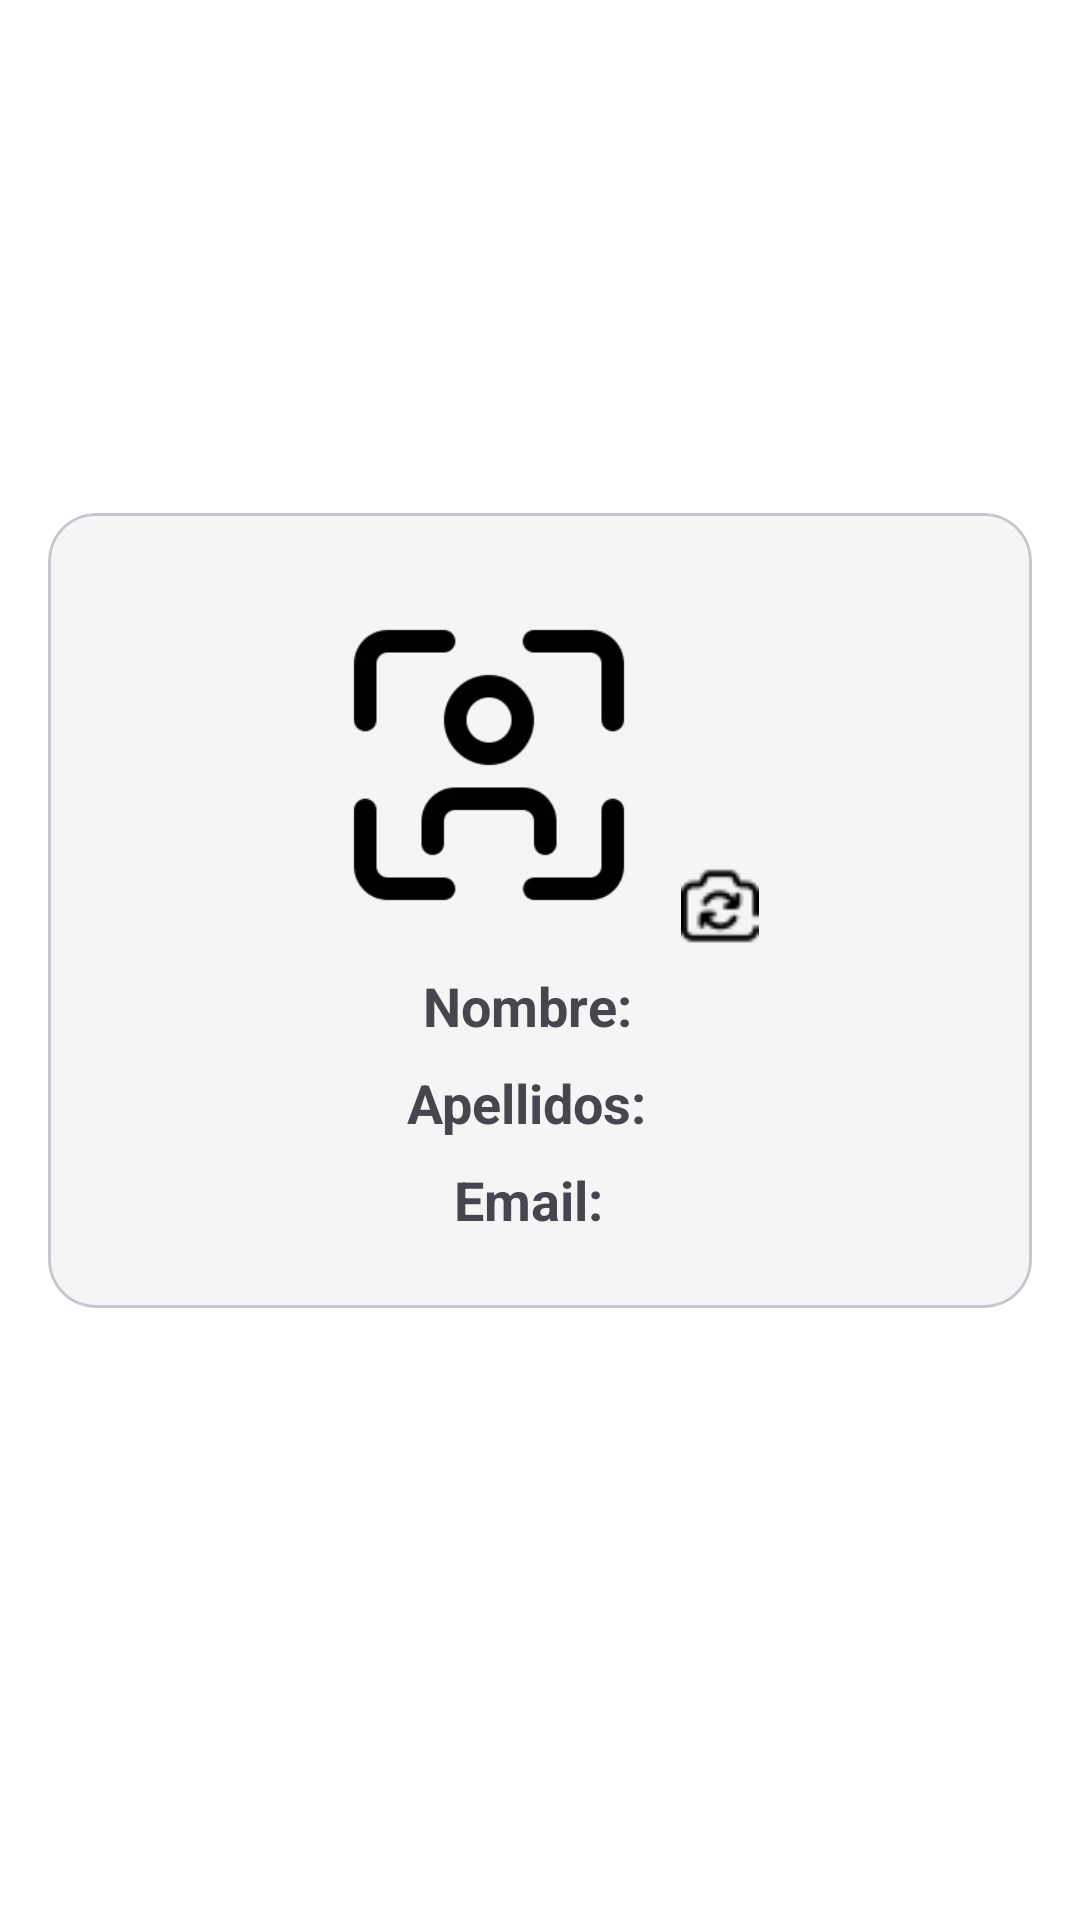

Locate icon controls on the screen. Image size 1080×1920, boxes as [left=x1, top=y1, right=x2, bottom=y2].
Foto de perfil del usuario: [left=353, top=629, right=625, bottom=901]
